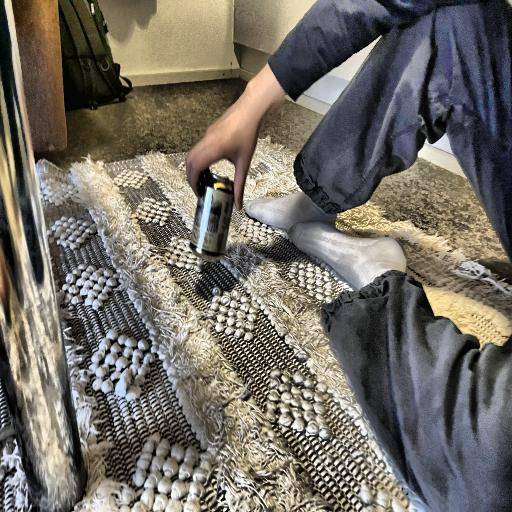sandels: (191, 168, 237, 268)
